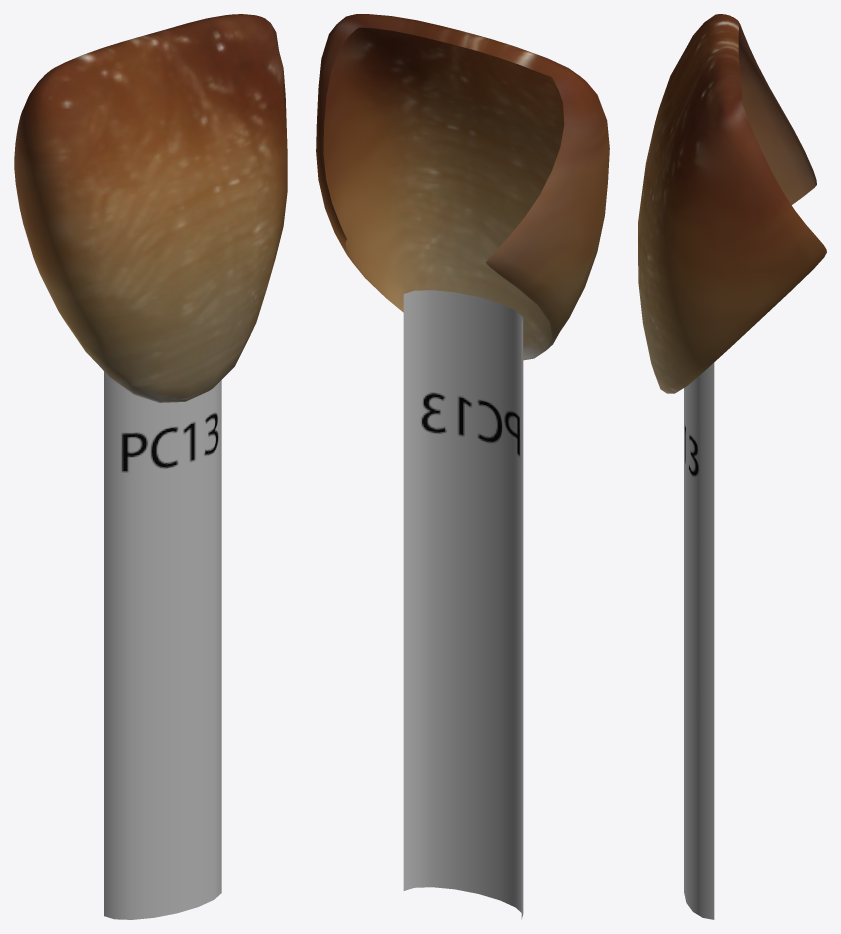
3 renders of one model, left to right at view 1: azimuth 30°, elevation 25°; view 2: azimuth 150°, elevation 25°; view 3: azimuth 270°, elevation 25°, orthographic. The views are drawn at different scales.
Parts seen in each view (by area): view 1: Tab; view 2: Tab; view 3: Tab.
Boxes of the visible parts, box(x1,y1,x2,y2) form: Tab: box(14, 14, 287, 919); Tab: box(316, 14, 609, 919); Tab: box(638, 14, 826, 919).
Size of the model in its own units: 0.00866 by 0.0274 by 0.00556.
Materials: 1 (1 with a texture image).
